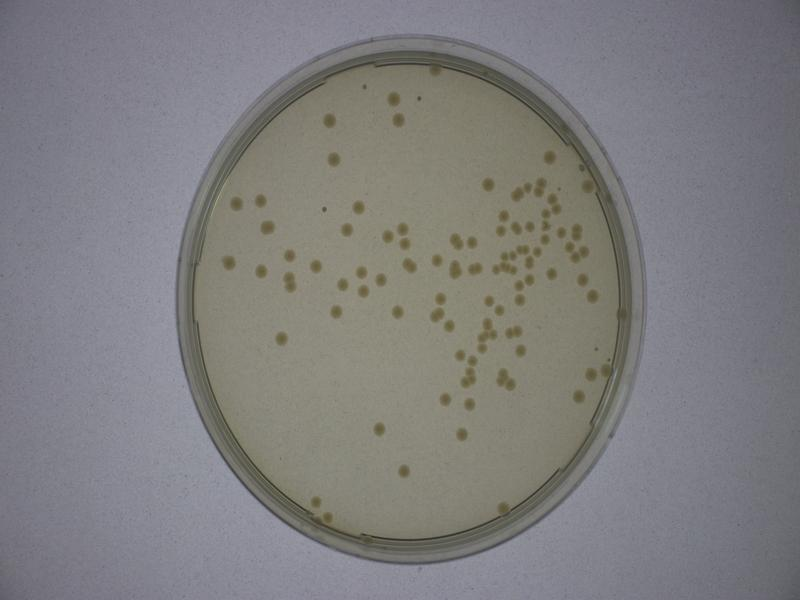colony: (214, 247, 239, 280), (380, 84, 406, 110), (272, 328, 299, 352), (508, 341, 532, 366), (315, 109, 341, 132), (394, 456, 415, 483), (324, 146, 347, 170), (335, 218, 360, 240), (349, 192, 370, 218), (432, 389, 456, 411), (371, 418, 392, 443), (279, 242, 300, 266), (375, 223, 396, 247), (326, 297, 345, 323), (461, 391, 479, 418), (539, 147, 561, 169), (249, 259, 269, 283), (569, 384, 589, 408), (306, 253, 327, 275), (389, 299, 408, 323), (388, 109, 410, 129), (427, 249, 447, 271), (227, 192, 245, 216), (477, 171, 495, 195), (252, 189, 272, 210), (541, 266, 564, 284), (354, 256, 371, 280), (373, 265, 389, 290), (332, 274, 351, 295), (463, 231, 481, 252), (452, 426, 471, 445), (584, 286, 602, 306), (411, 89, 426, 110), (357, 282, 373, 301), (315, 203, 332, 219)
